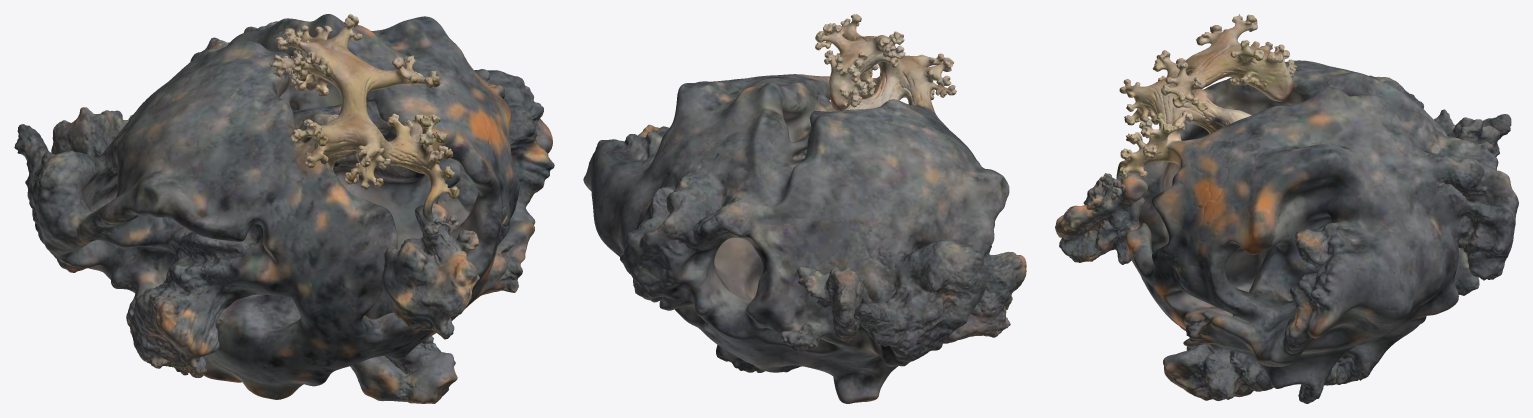
Rendered from kamien-mobile.glb.
The picture shows the model from 3 angles, left to right: view 1: azimuth 30°, elevation 25°; view 2: azimuth 150°, elevation 25°; view 3: azimuth 270°, elevation 25°; orthographic projection. The views are drawn at different scales.
Bounding box in the file's own units: 1.9 × 1.43 × 1.78.
Materials: 1 (1 with a texture image).
